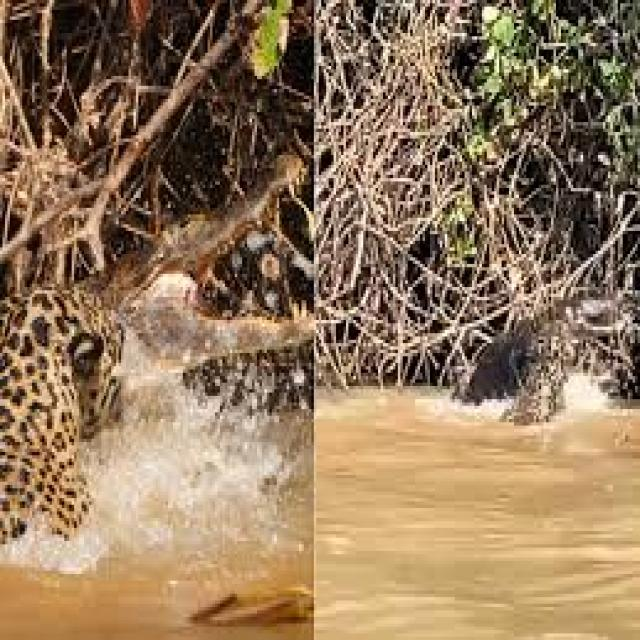Jaguar: (0, 257, 119, 574)
